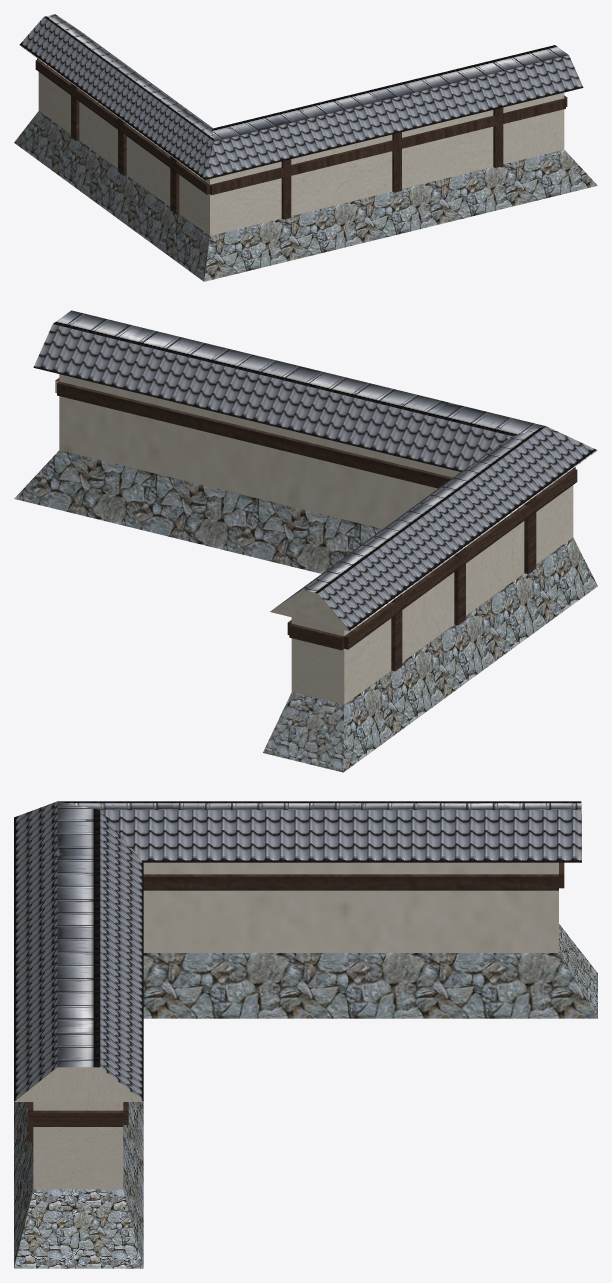
File: kado.fbx
3 views of the same model, one above another, from view 1: azimuth 30°, elevation 25°; view 2: azimuth 150°, elevation 25°; view 3: azimuth 270°, elevation 25° (orthographic). The views are drawn at different scales.
Parts seen in each view (by area): view 1: 立方体; view 2: 立方体; view 3: 立方体.
Part boxes in pixels (<box>): 立方体: <box>14,14,597,281</box>; 立方体: <box>14,310,597,772</box>; 立方体: <box>14,801,597,1268</box>.
Size of the model in its own units: 131 by 39.26 by 109.
4 materials, 4 textured.
